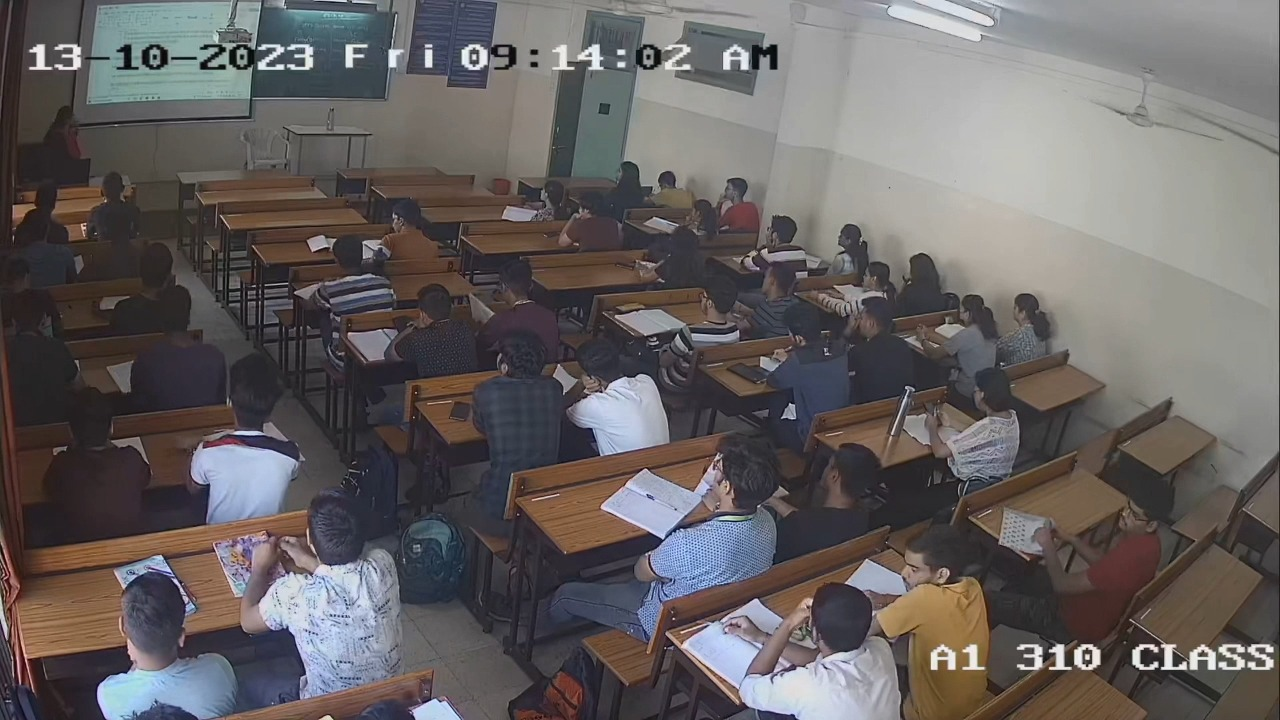cell-phones: (924, 399, 948, 429), (448, 401, 472, 423), (613, 301, 647, 313), (613, 258, 636, 273), (942, 312, 958, 326)
person: (459, 330, 562, 463), (922, 368, 1020, 481), (656, 275, 741, 364), (914, 294, 1000, 369), (642, 226, 705, 286)
